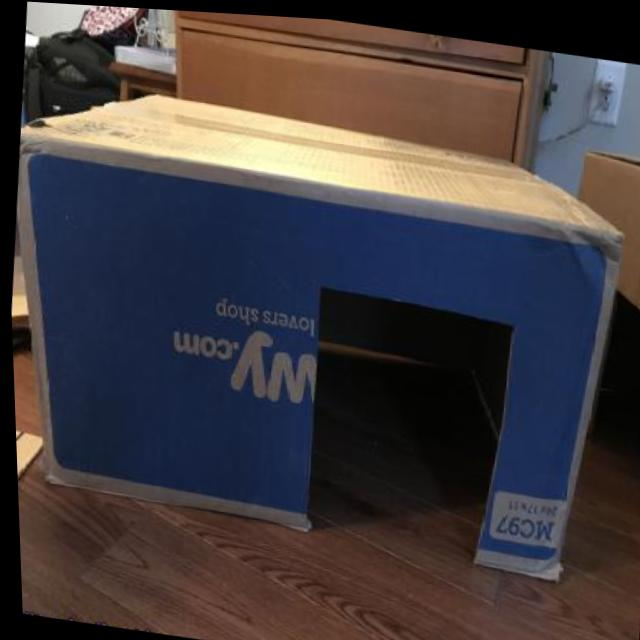box: (2, 63, 640, 623)
